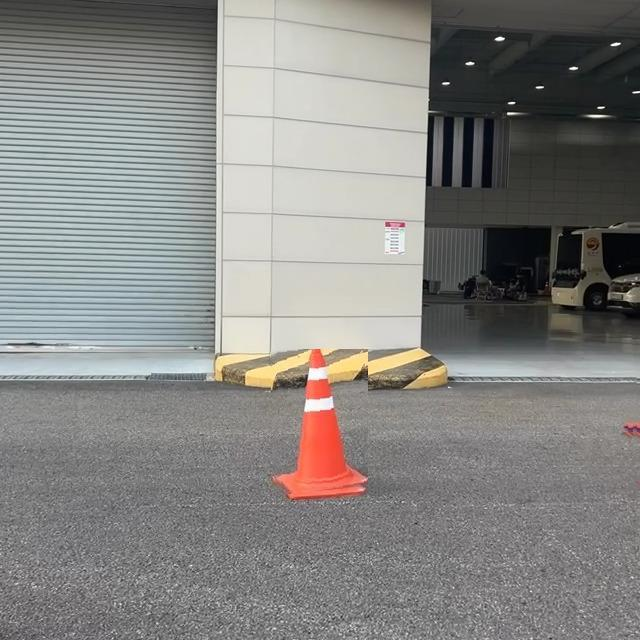fallen_object: (247, 325, 418, 565)
